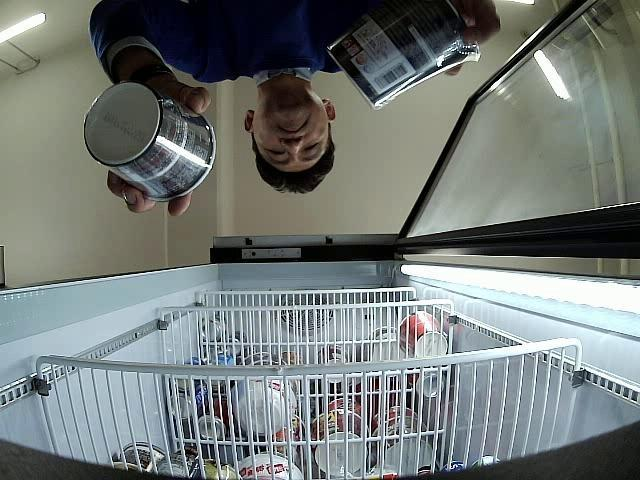08_buldak_S: (327, 0, 480, 110), (84, 82, 215, 202)
